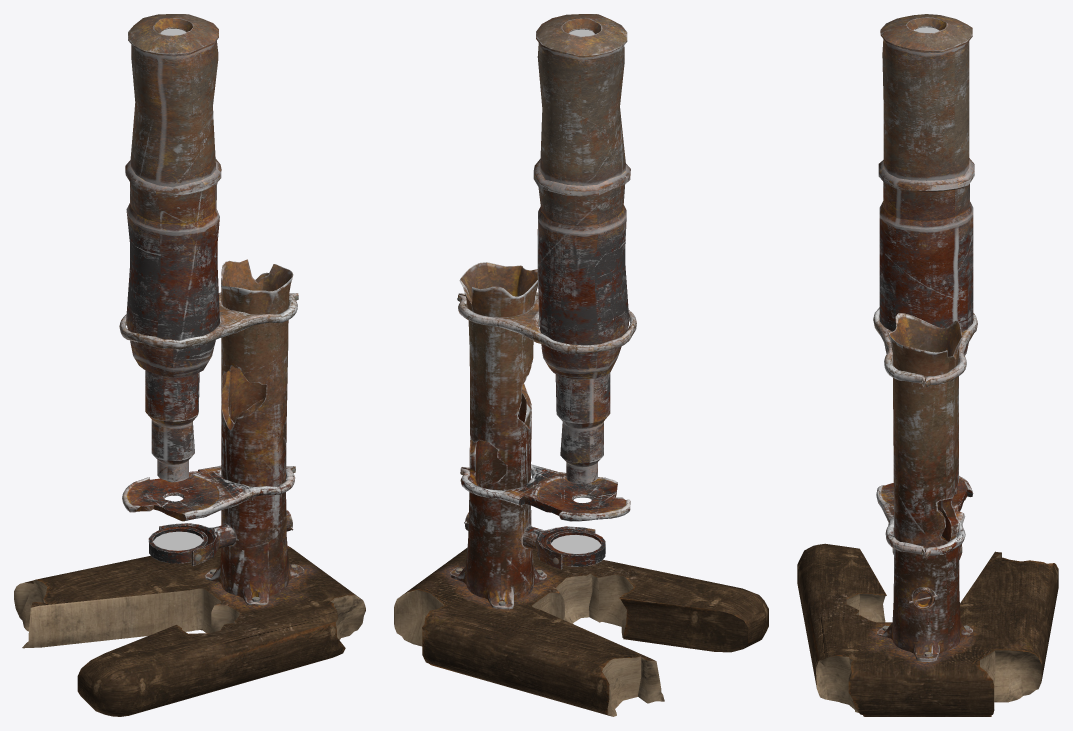
3 views of the same model, side by side, from view 1: azimuth 30°, elevation 25°; view 2: azimuth 150°, elevation 25°; view 3: azimuth 270°, elevation 25° (orthographic).
Visible parts, largest first — view 1: Object_6, Object_5, Object_4, Object_3; view 2: Object_6, Object_5, Object_4, Object_3; view 3: Object_6, Object_5, Object_4.
Boxes of the visible parts, x1,y1,x2,y2 form: Object_6: [14, 259, 365, 716]; Object_5: [125, 14, 221, 482]; Object_4: [119, 292, 298, 565]; Object_3: [153, 28, 203, 550]; Object_6: [394, 262, 768, 716]; Object_5: [533, 14, 630, 484]; Object_4: [457, 292, 636, 569]; Object_3: [551, 29, 601, 553]; Object_6: [797, 313, 1058, 716]; Object_5: [878, 14, 974, 355]; Object_4: [873, 307, 977, 609].
Size of the model in its own units: 0.3686 by 0.7696 by 0.2921.
4 materials, 4 textured.
